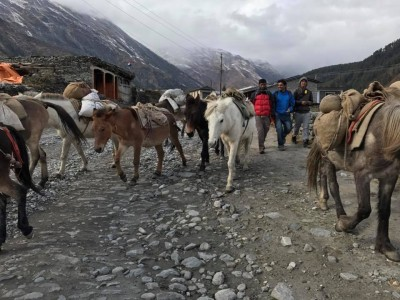human: (280, 73, 321, 151), (248, 75, 276, 156), (267, 77, 295, 156)
